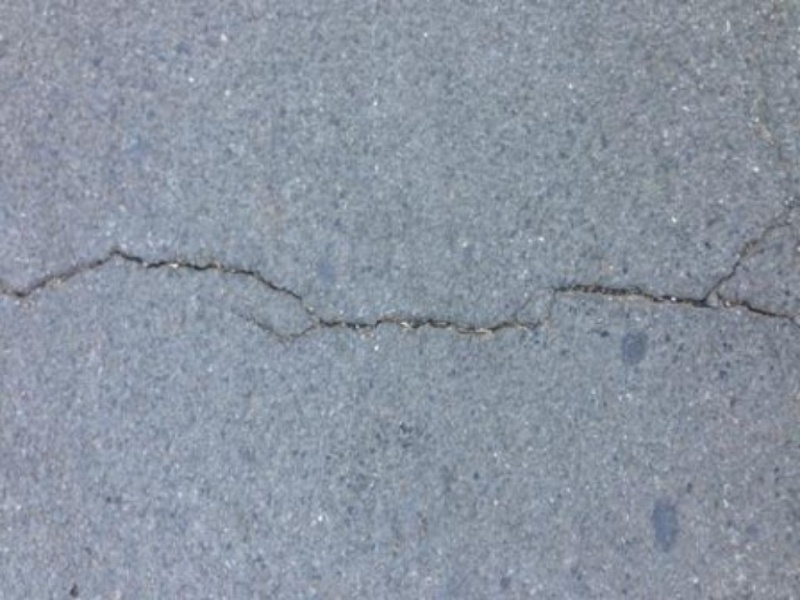crack: (1, 199, 792, 361)
